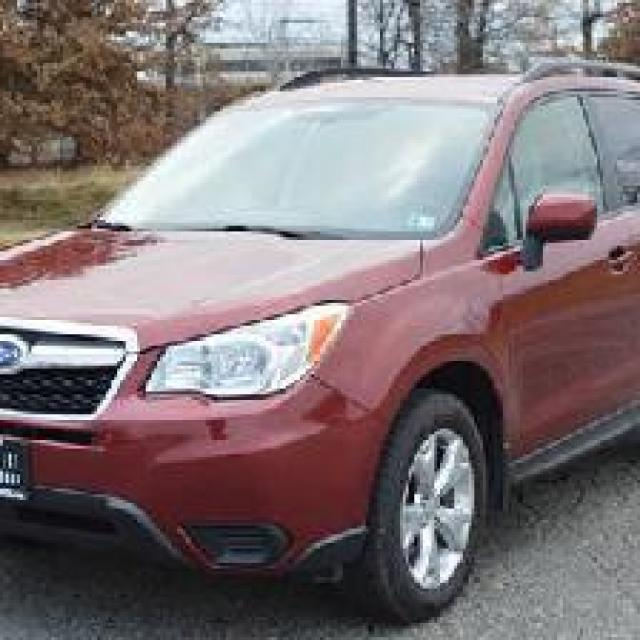damaged: (146, 392, 383, 474)
